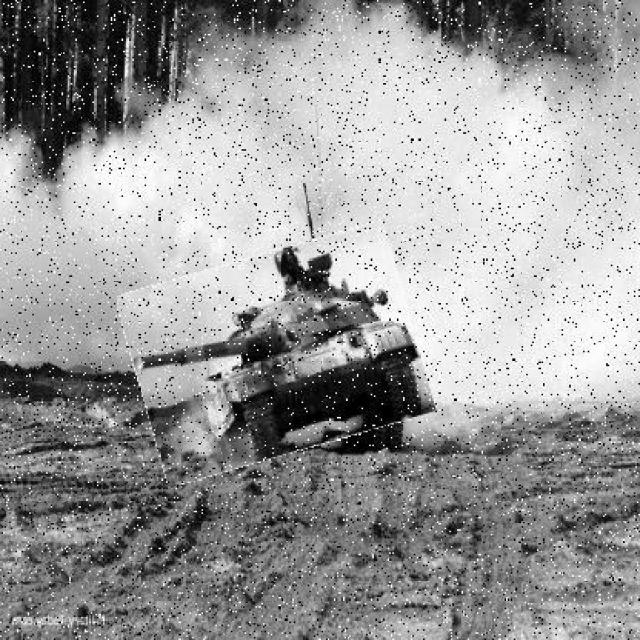Tank: (127, 238, 427, 470)
